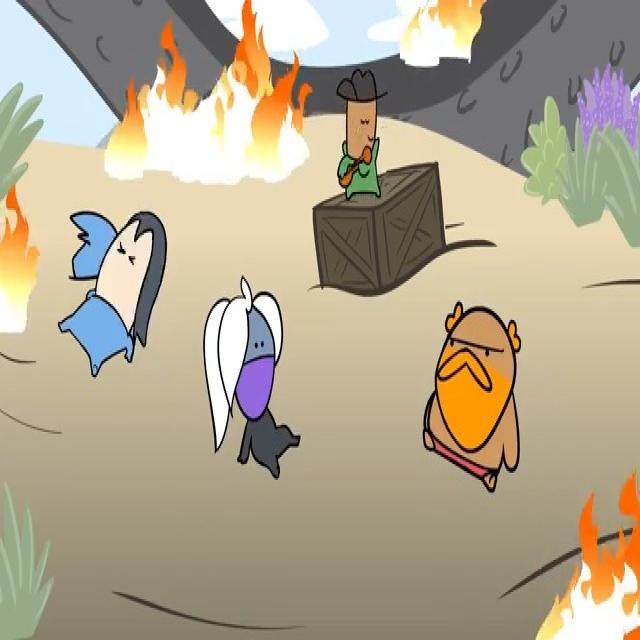Banjovi: (336, 69, 388, 200)
Haagen-Daz: (422, 301, 521, 494)
Josh: (57, 211, 167, 378)
miss Demeanor: (203, 274, 301, 479)
